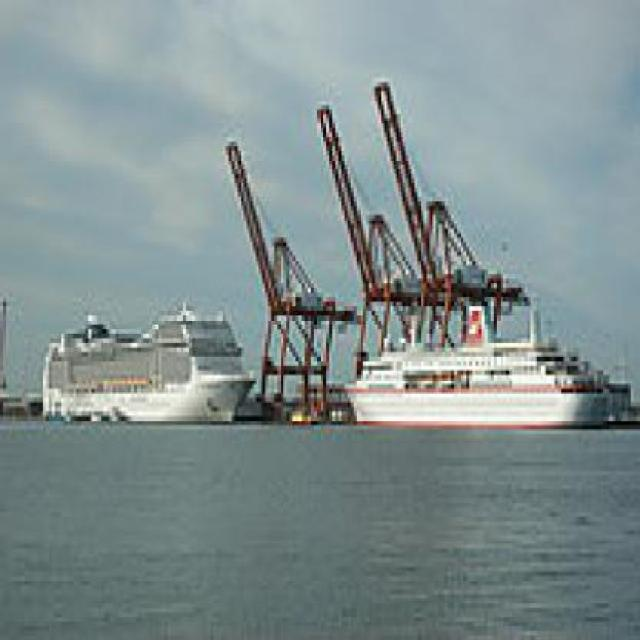cruise: (336, 326, 629, 444), (34, 294, 260, 431)
